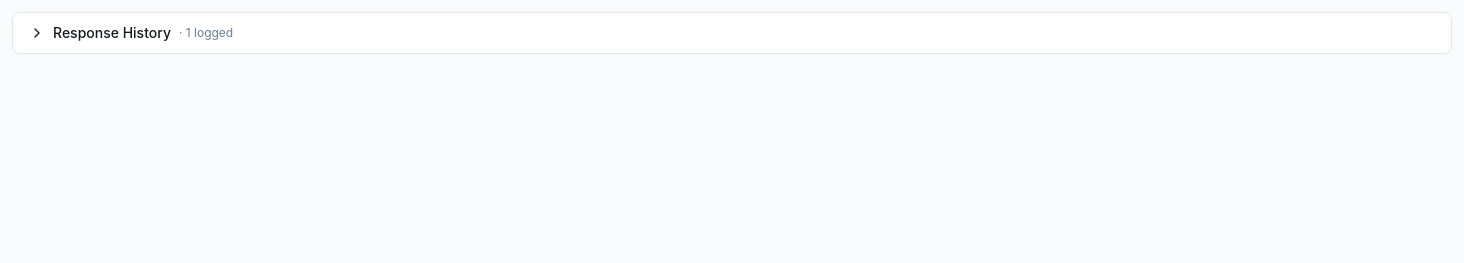
Scenario: ResponseHistoryPanel — collapsed by default › expands and collapses on the header
Click the button "Response History · 1 logged" at (112, 32), box [13, 13, 1451, 53]
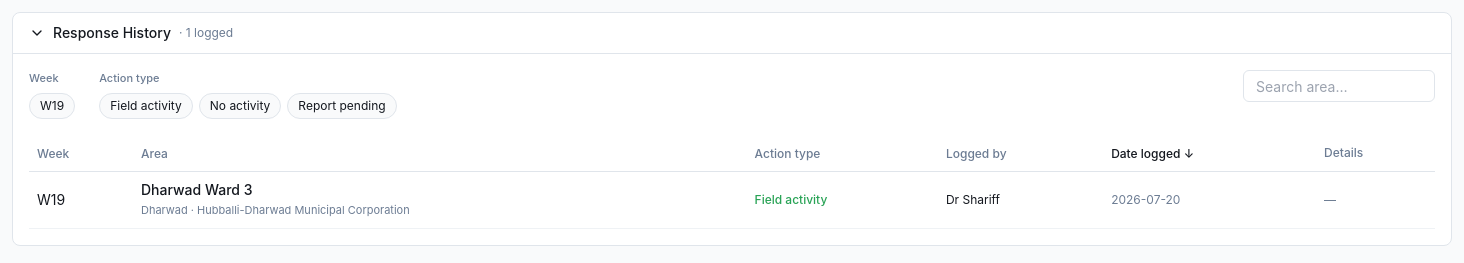
Result: the button "Response History · 1 logged" is expanded
Result: the table is shown at [29, 134, 1435, 228]
Click the button "Response History · 1 logged" at (112, 32), box [13, 13, 1451, 53]
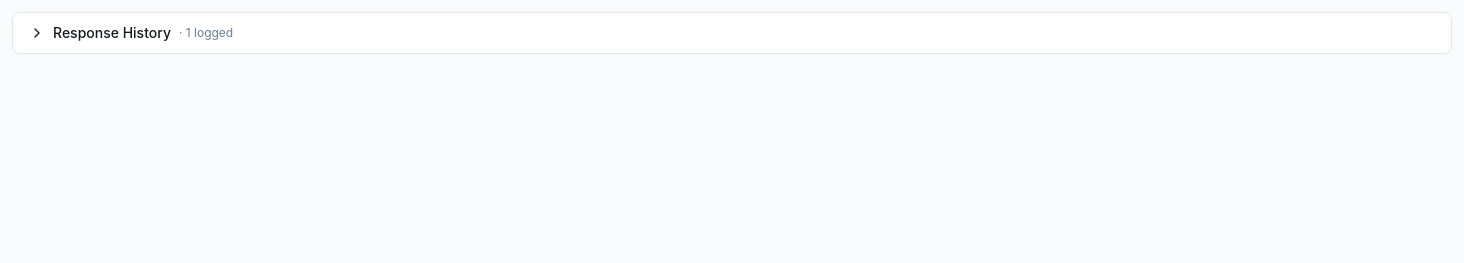
Result: the table is gone
